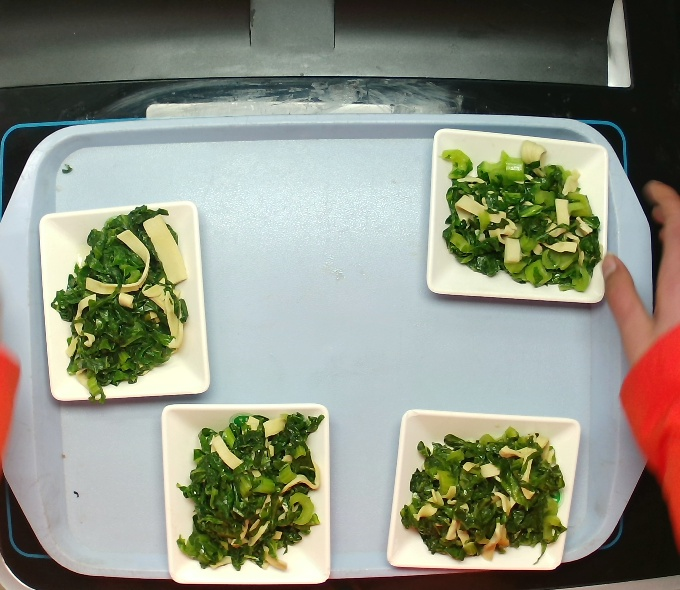wcq-QingCaiChaoQianZhang: (426, 137, 630, 299), (42, 196, 192, 413), (170, 405, 323, 577), (399, 420, 578, 567)
